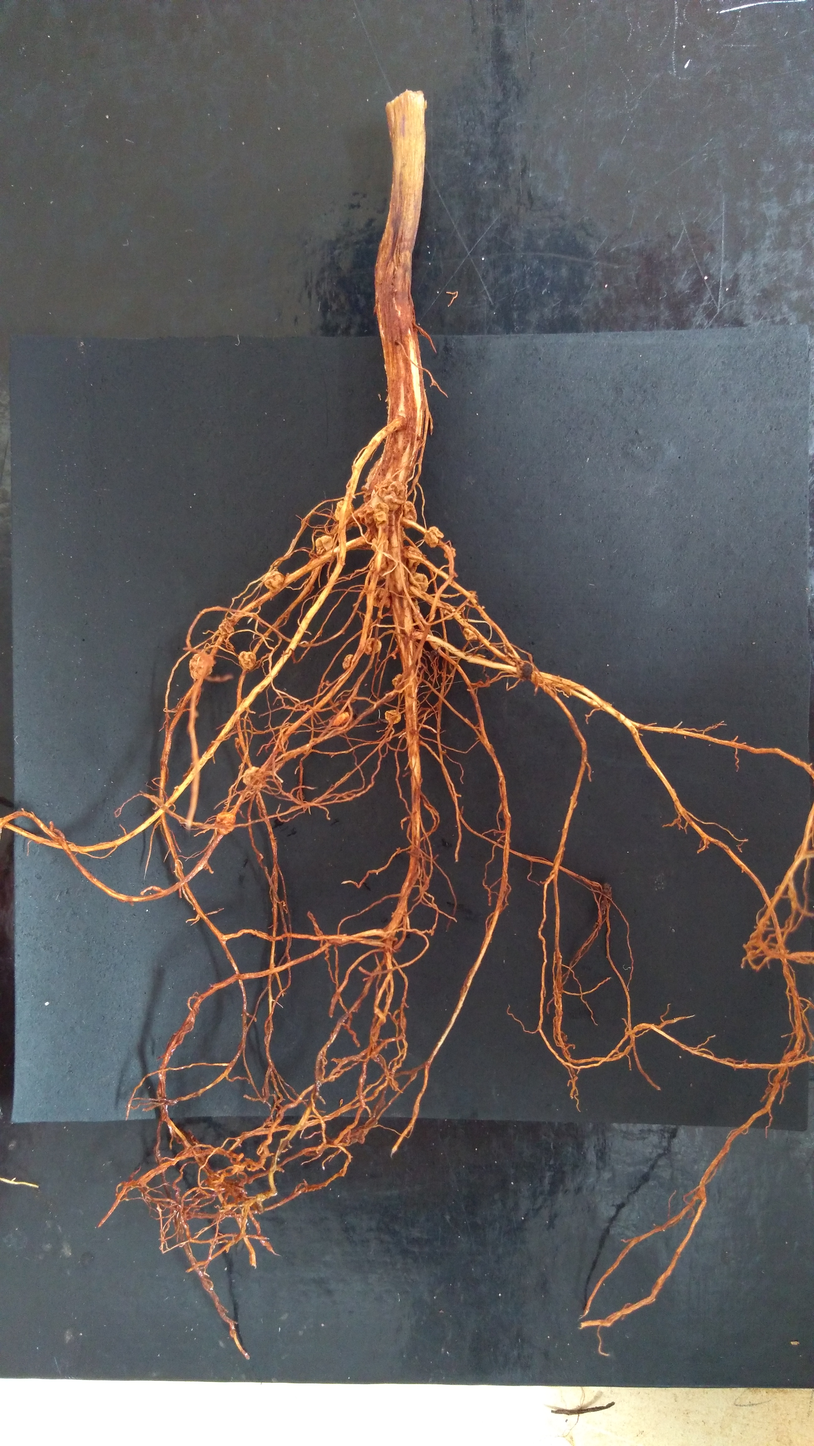nodule: (374, 479, 409, 512), (189, 651, 213, 682), (402, 544, 424, 573), (407, 570, 429, 598), (242, 766, 267, 790), (368, 556, 390, 583), (333, 499, 355, 524), (372, 502, 391, 530), (369, 585, 392, 608), (214, 812, 236, 835), (315, 534, 337, 556), (263, 571, 285, 593), (423, 525, 444, 548), (402, 501, 417, 530), (515, 659, 535, 680), (328, 710, 351, 728), (237, 651, 257, 671), (358, 504, 375, 526), (370, 536, 389, 554), (218, 617, 236, 636), (364, 637, 382, 654), (384, 709, 402, 725), (462, 626, 479, 642), (442, 604, 458, 620), (409, 597, 421, 617), (341, 653, 353, 670), (443, 546, 457, 560), (466, 589, 479, 604), (392, 673, 403, 690), (400, 526, 407, 541), (234, 736, 242, 745), (391, 652, 397, 660), (173, 785, 179, 790)
